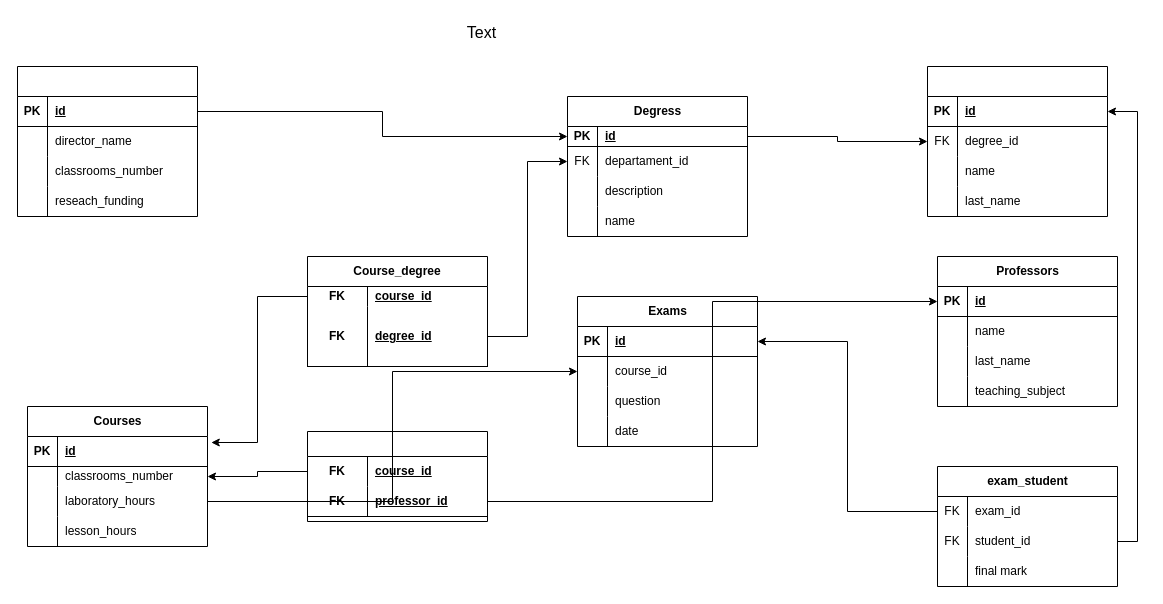
Some shapes in this 1163 by 604 pixel diagram are drawn without their labels. The shapes that lost their labels are listed below. From the top down, each one's box as (x1, y1, x2, y2) in pixels, then its label:
(16, 66, 198, 216): Departments
(926, 66, 1108, 216): Students
(306, 430, 488, 522): Course_professor
